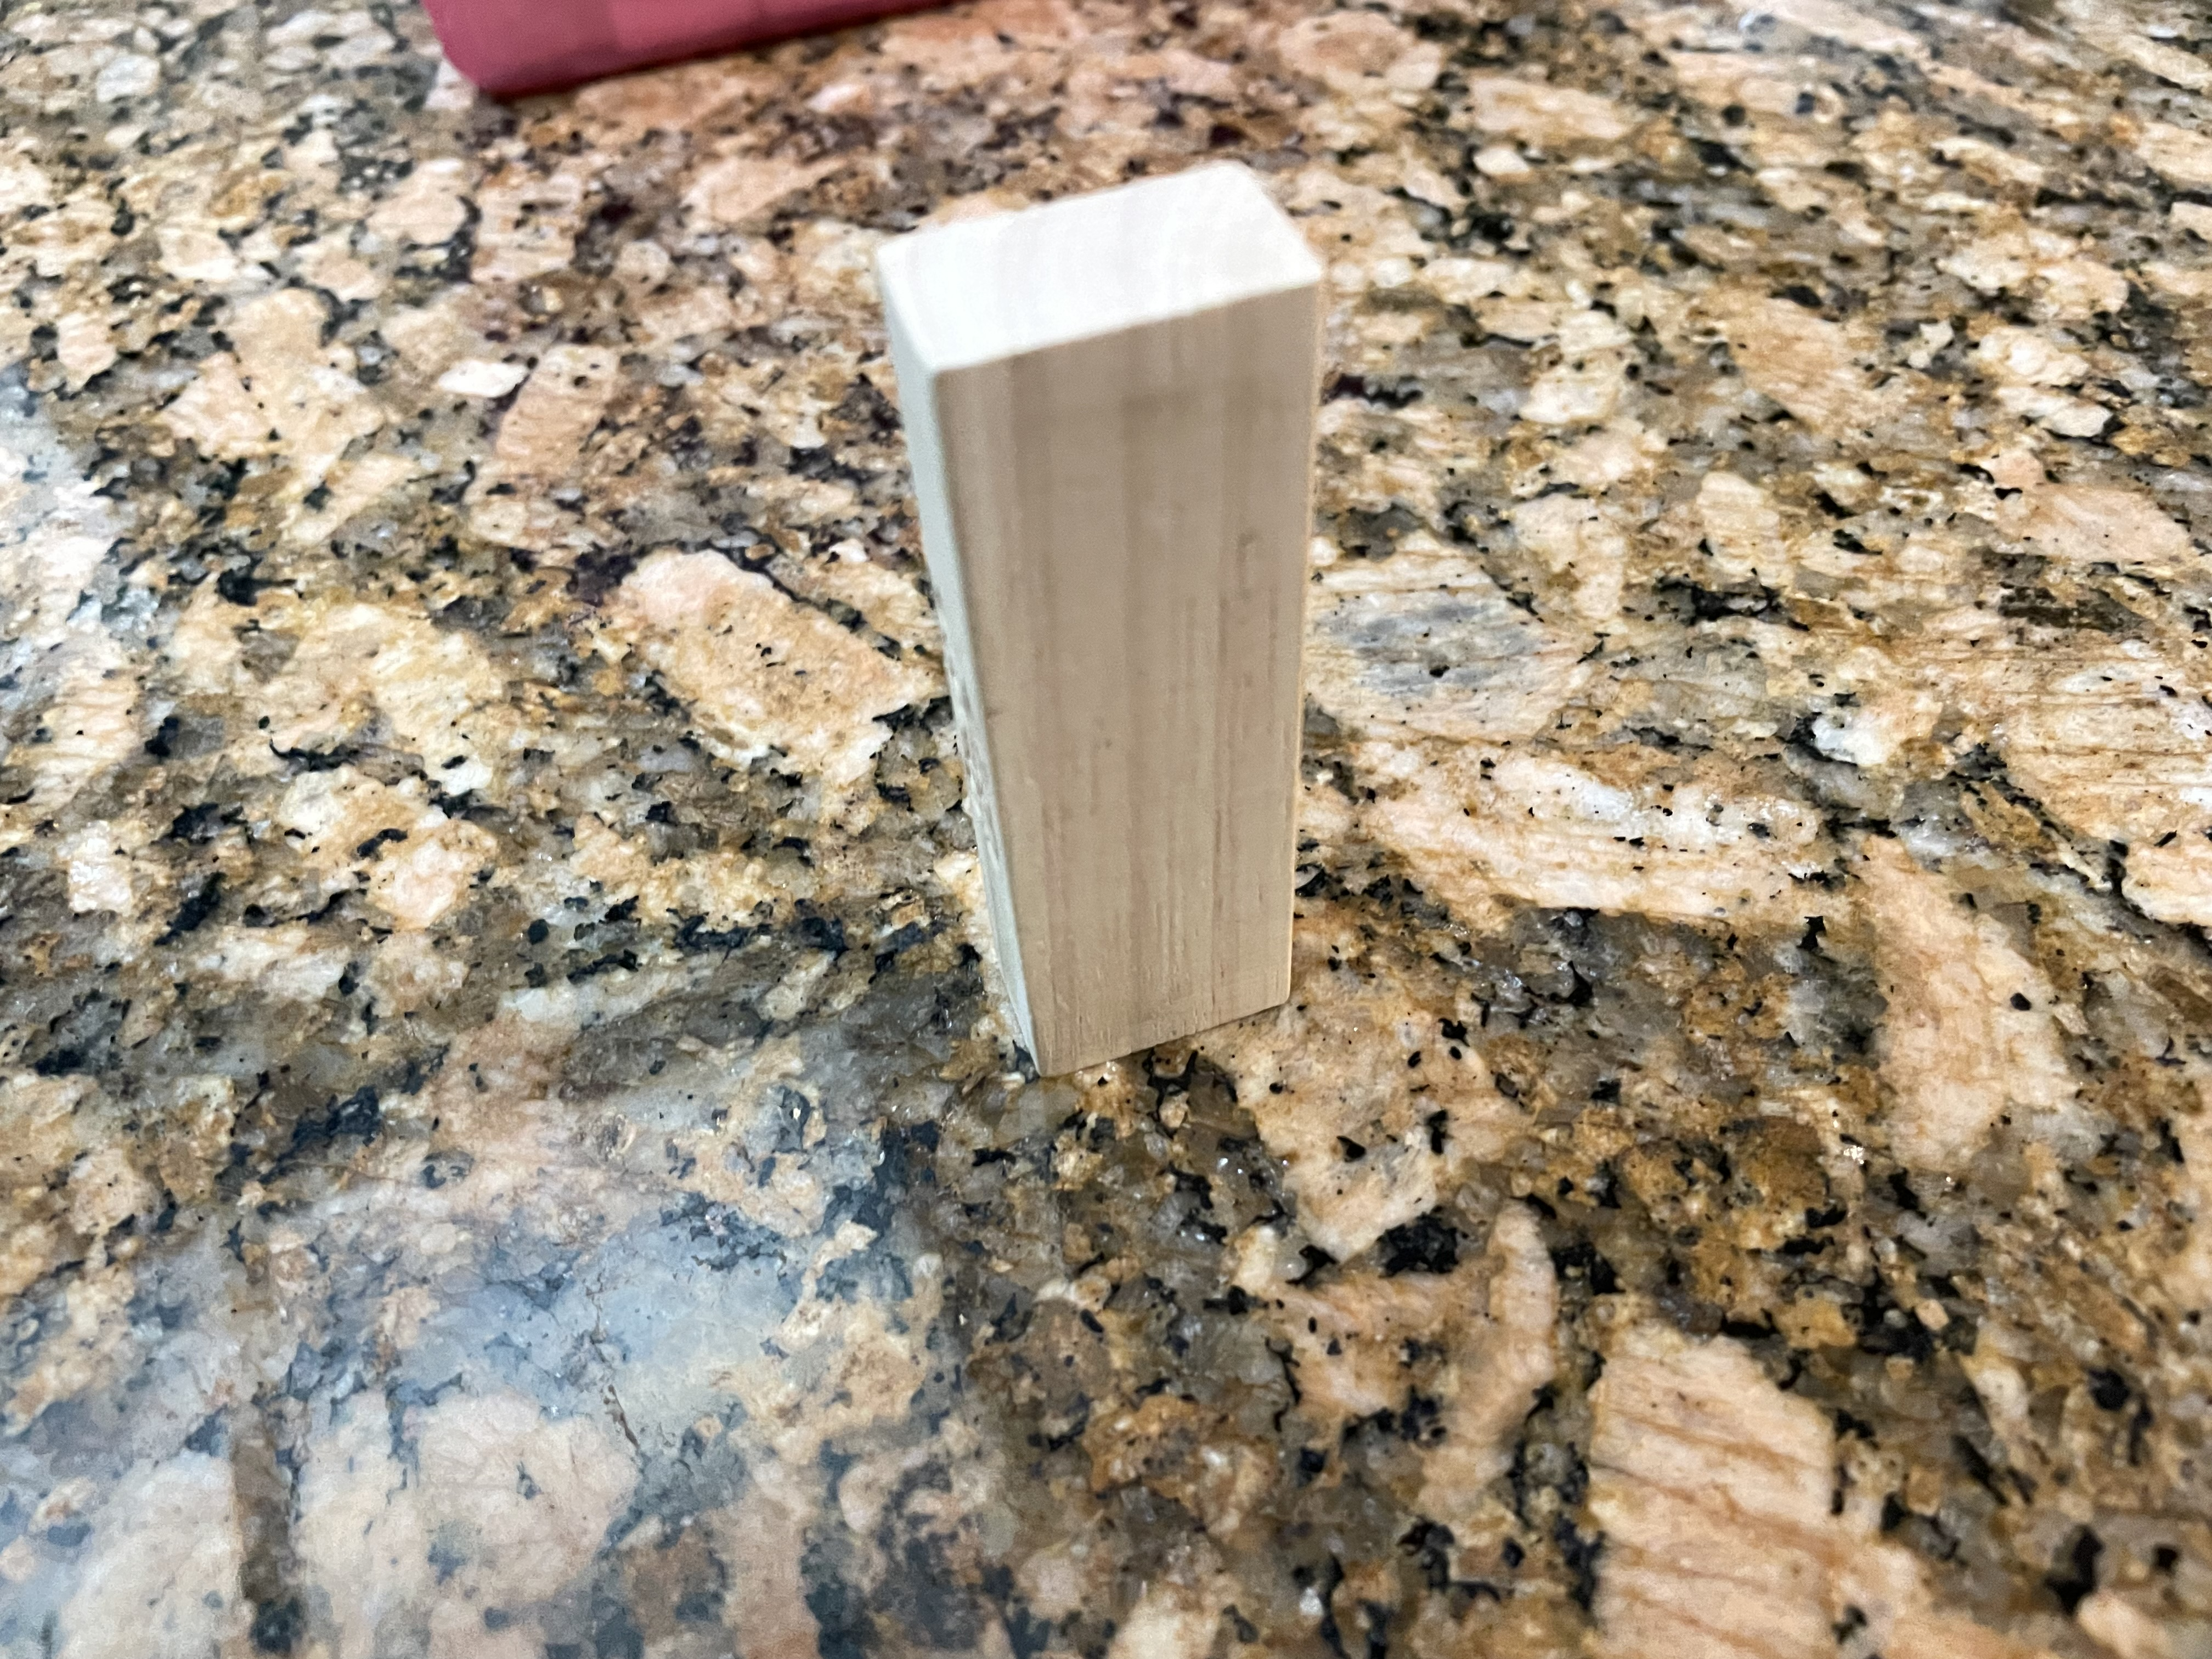jenga: (880, 153, 1318, 1089)
